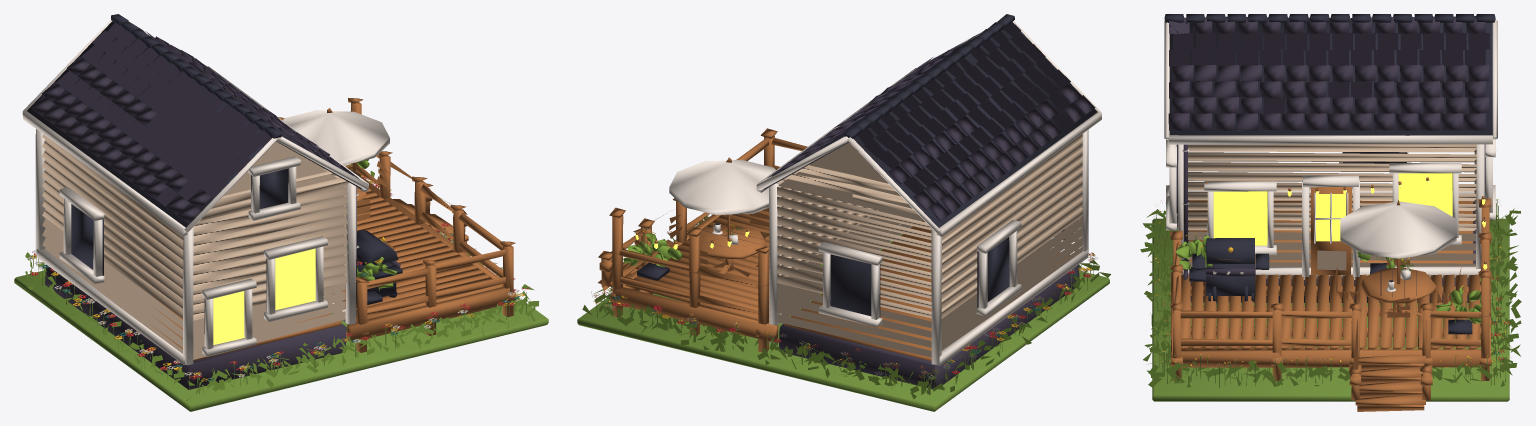
3 renders of one model, left to right at view 1: azimuth 30°, elevation 25°; view 2: azimuth 150°, elevation 25°; view 3: azimuth 270°, elevation 25°, orthographic.
Bounding box in the file's own units: 9.38 × 5.77 × 7.8.
